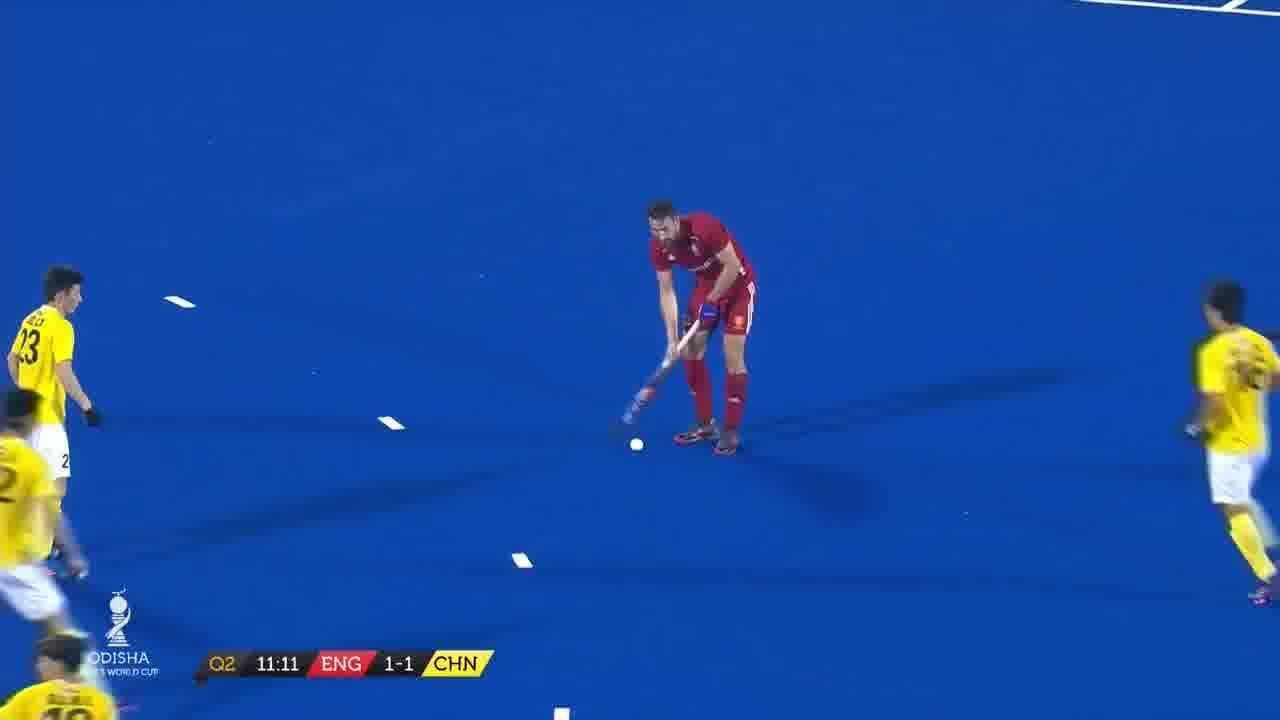ball: (628, 436, 646, 454)
